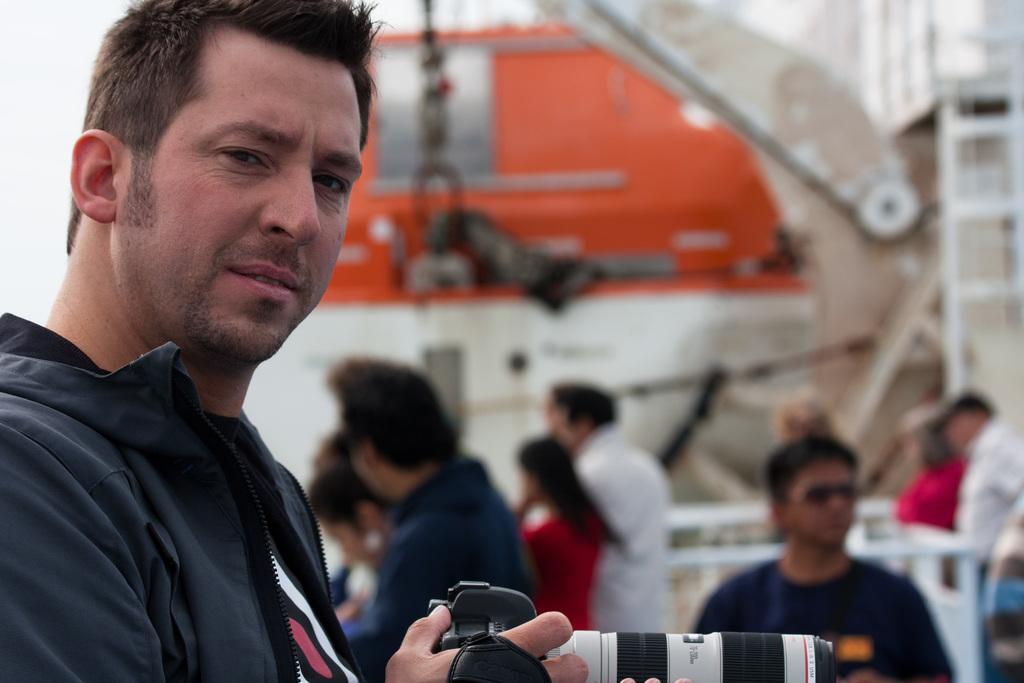Sem Máscara: (107, 21, 364, 357), (780, 451, 855, 548), (313, 521, 372, 570), (347, 443, 387, 497), (551, 406, 583, 448), (941, 413, 969, 444)
